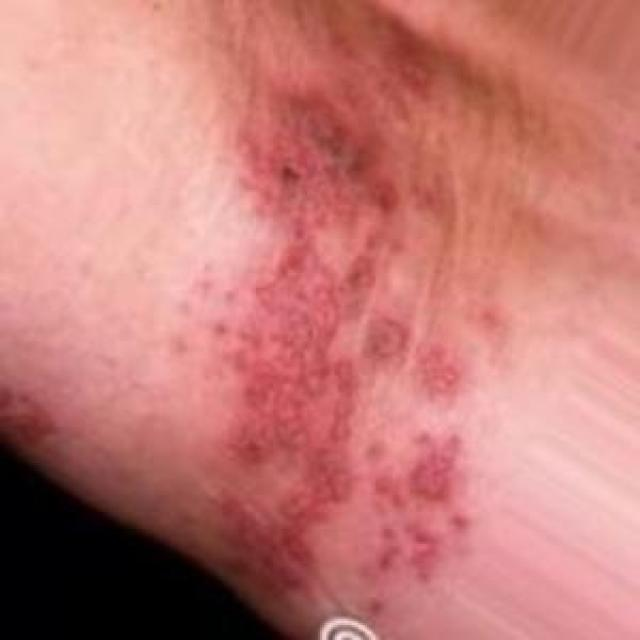Shingles: (210, 86, 467, 598)
